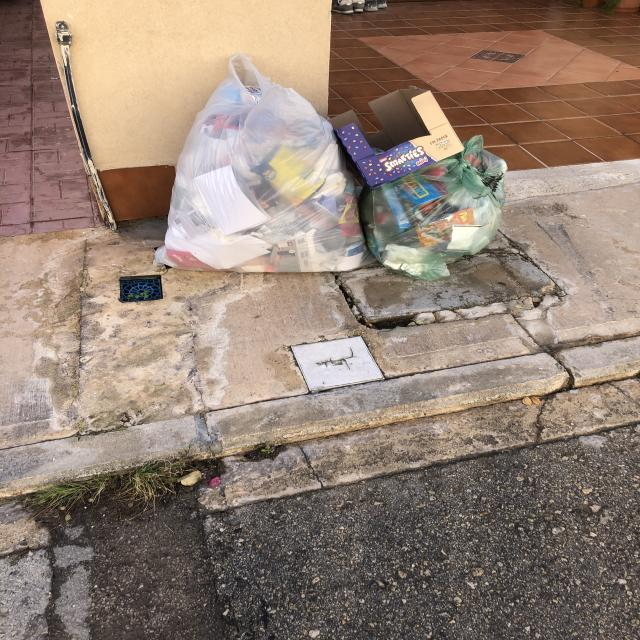Other: (335, 86, 470, 185)
Recycled Waste -Grey or Green Bag-: (146, 56, 381, 278), (354, 134, 519, 285)
